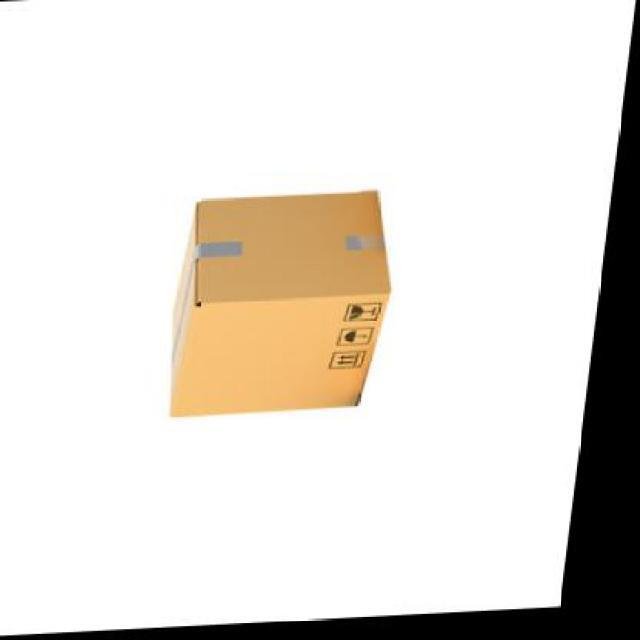box: (178, 203, 404, 416)
